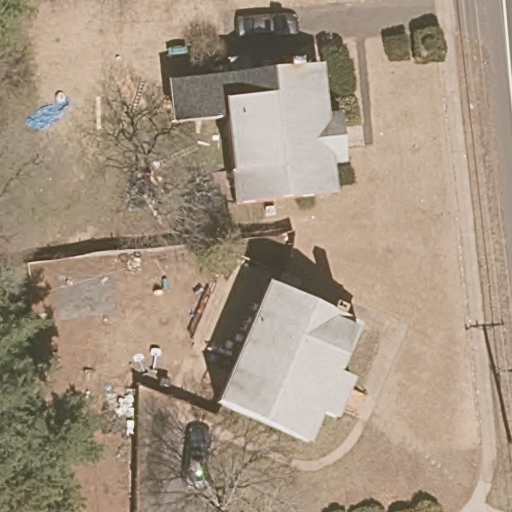DT: (489, 359, 512, 401)
